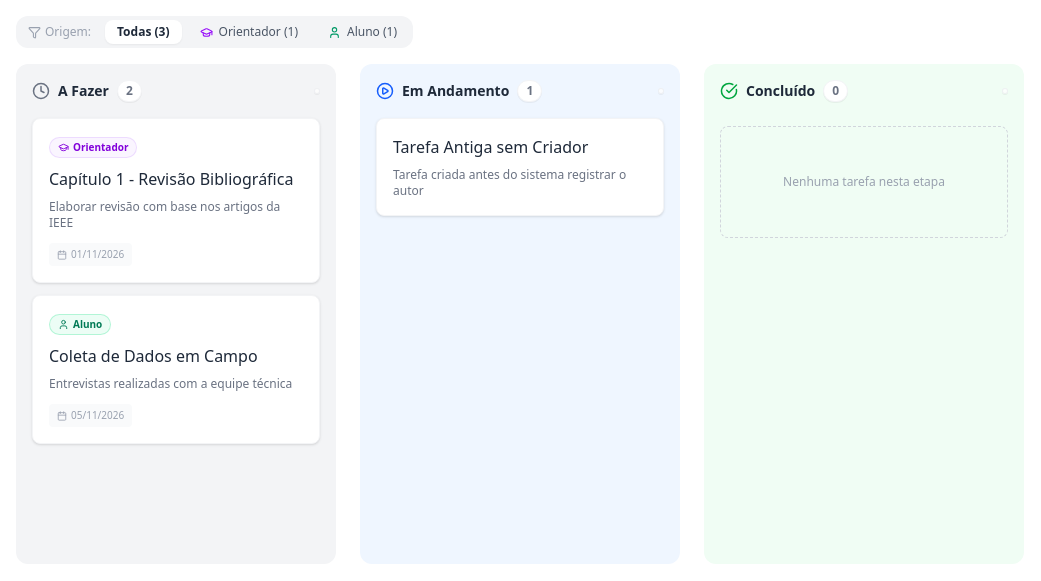
Test: Task Creator Identification › KanbanBoard author filtering › shows filter toolbar with task counts and filters columns by author
Check: the button "Todas (3)" is shown, box [105,20,182,44]
Check: the button "Aluno (1)" is shown, box [316,20,409,44]
What coordinates should you click on to do the following:
click the button "Orientador (1)"
I would click on:
 (249, 32)
Its box is [188,20,310,44].
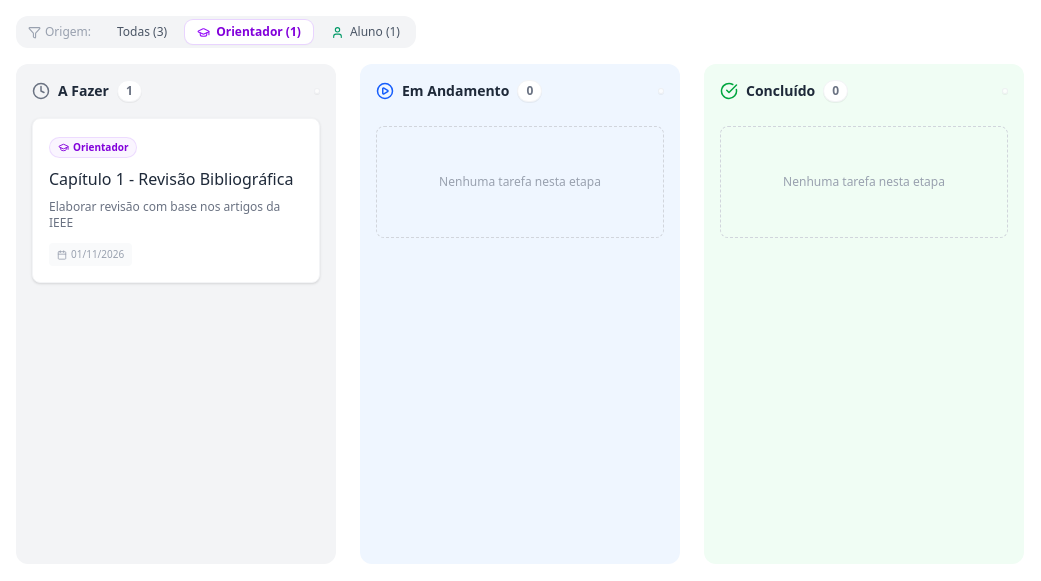
Check: the heading "Capítulo 1 - Revisão Bibliográfica" is shown, box [49,167,303,191]
Check: the button "Coleta de Dados em Campo" is gone
Check: the button "Tarefa Antiga sem Criador" is gone
What coordinates should you click on to do the following:
click the button "Aluno (1)"
I would click on:
 (365, 32)
Its box is [319,20,412,44].
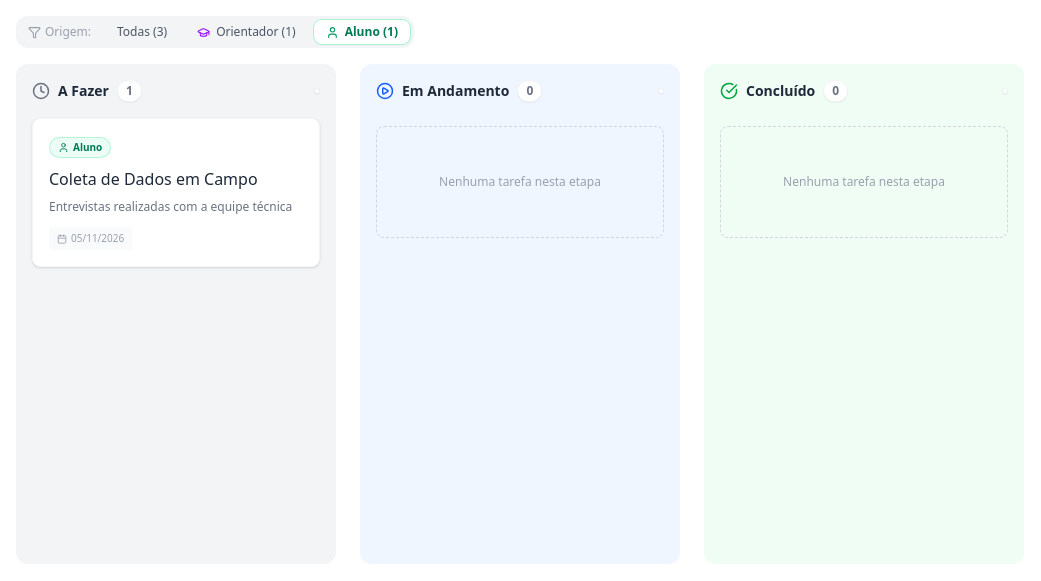
Check: the button "Tarefa Antiga sem Criador" is not shown
Check: the heading "Coleta de Dados em Campo" is shown, box [49,168,258,190]
Check: the button "Capítulo 1 - Revisão Bibliográfica" is gone
What coordinates should you click on to do the following:
click the button "Todas (3)"
I would click on:
 (142, 32)
Its box is [105,20,179,44].
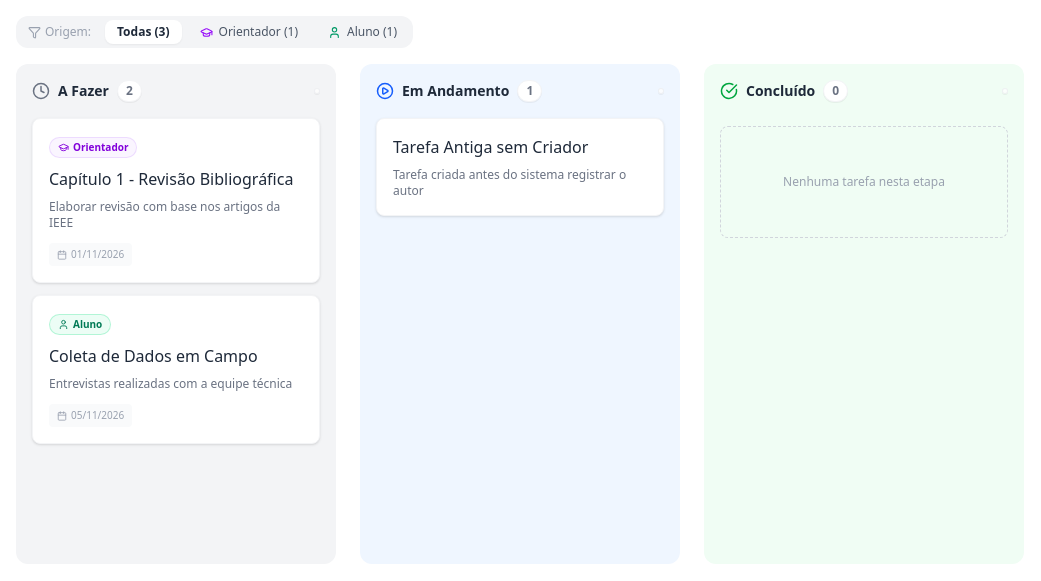
Check: the heading "Coleta de Dados em Campo" is shown, box [49,345,258,367]
Check: the heading "Capítulo 1 - Revisão Bibliográfica" is shown, box [49,167,303,191]
Check: the heading "Tarefa Antiga sem Criador" is shown, box [393,136,588,158]
